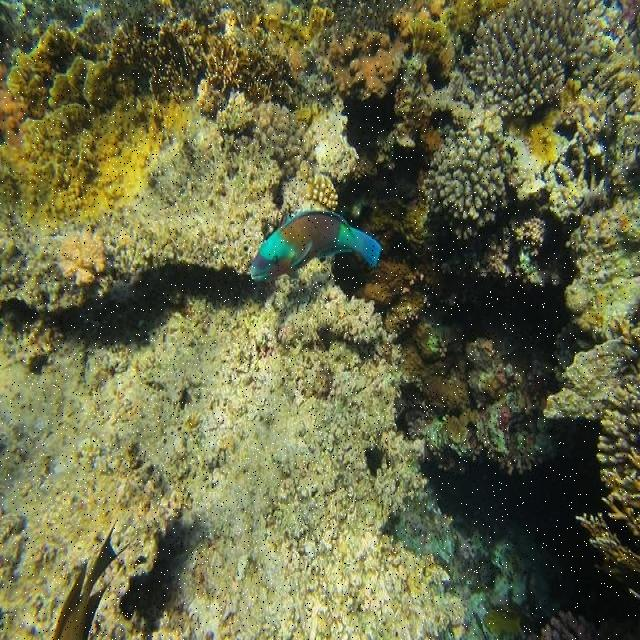fish: (181, 210, 384, 399), (52, 488, 133, 639)
reefs: (0, 0, 497, 312)
